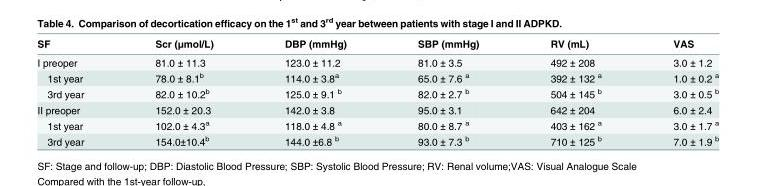table: (36, 37, 718, 146)
table column: (248, 37, 381, 146), (381, 37, 513, 146), (118, 37, 248, 146), (513, 37, 636, 146), (36, 37, 118, 146), (636, 37, 718, 146)
table column header: (36, 37, 718, 52)
table row: (36, 52, 718, 69), (36, 69, 718, 85), (36, 85, 718, 101), (36, 116, 718, 132), (36, 37, 718, 52), (36, 101, 718, 116), (36, 132, 718, 146)
